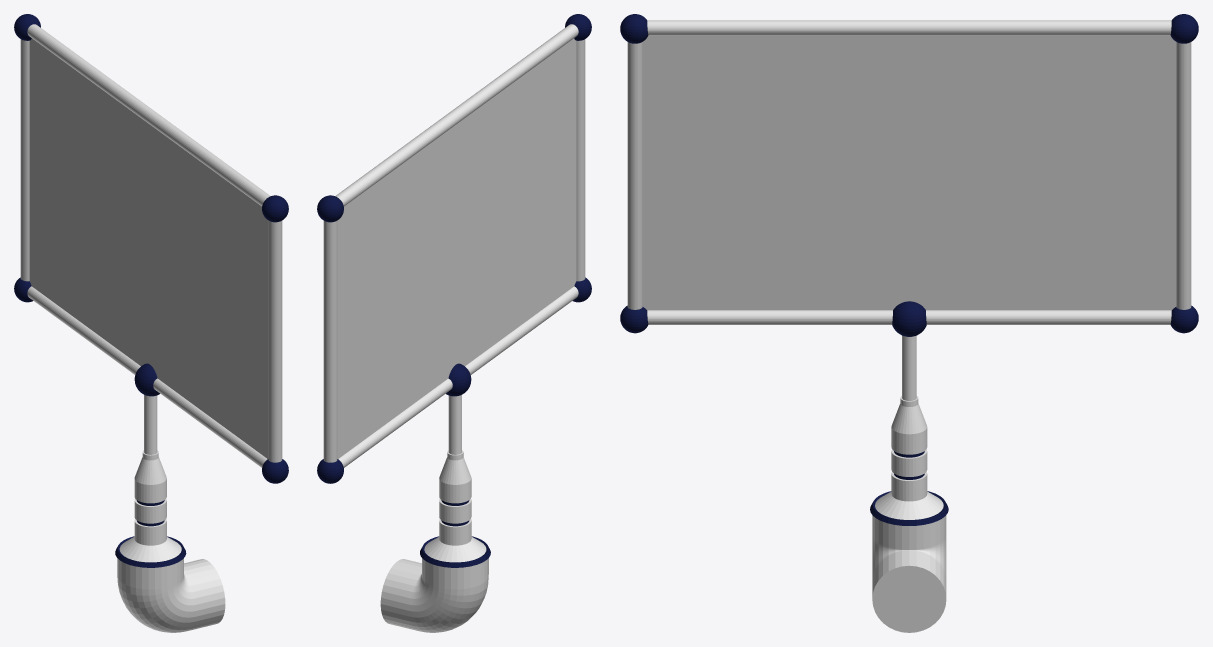
Rendered from Billboard-HD_1.fbx.
The picture shows the model from 3 angles, left to right: view 1: azimuth 30°, elevation 25°; view 2: azimuth 150°, elevation 25°; view 3: azimuth 270°, elevation 25°; orthographic projection. The views are drawn at different scales.
Visible parts, largest first — view 1: Screen-backside, Billboard, Cylinder.002, Cylinder.001, Cylinder, Cylinder.003, Sphere.004, Bottom-Joint, Sphere.002, Sphere.003; view 2: Screen-backside, Billboard, Cylinder.002, Cylinder.003, Cylinder, Cylinder.001, Sphere.003, Bottom-Joint, Sphere.001, Sphere.004; view 3: Screen, Billboard, Cylinder.002, Cylinder, Cylinder.001, Cylinder.003, Bottom-Joint.
Part boxes in pixels (x1,y1,x2,y2): Screen-backside: (29, 38, 268, 458); Billboard: (115, 395, 225, 632); Cylinder.002: (27, 24, 270, 206); Cylinder.001: (268, 221, 282, 462); Cylinder: (27, 286, 267, 467); Cylinder.003: (20, 39, 29, 281); Sphere.004: (262, 195, 288, 222); Bottom-Joint: (134, 363, 159, 396); Sphere.002: (262, 459, 288, 483); Sphere.003: (14, 14, 40, 40); Screen-backside: (337, 38, 576, 458); Billboard: (380, 395, 490, 632); Cylinder.002: (335, 24, 578, 206); Cylinder.003: (323, 221, 337, 462); Cylinder: (338, 286, 578, 467); Cylinder.001: (576, 39, 585, 281); Sphere.003: (317, 195, 343, 222); Bottom-Joint: (446, 363, 471, 396); Sphere.001: (317, 459, 343, 483); Sphere.004: (565, 14, 591, 40); Screen: (642, 35, 1176, 310); Billboard: (870, 335, 948, 632); Cylinder.002: (647, 20, 1171, 35); Cylinder: (647, 310, 1171, 324); Cylinder.001: (627, 42, 642, 309); Cylinder.003: (1176, 42, 1191, 309); Bottom-Joint: (892, 301, 926, 336).
Size of the model in its own units: 306 by 1746 by 1561.
